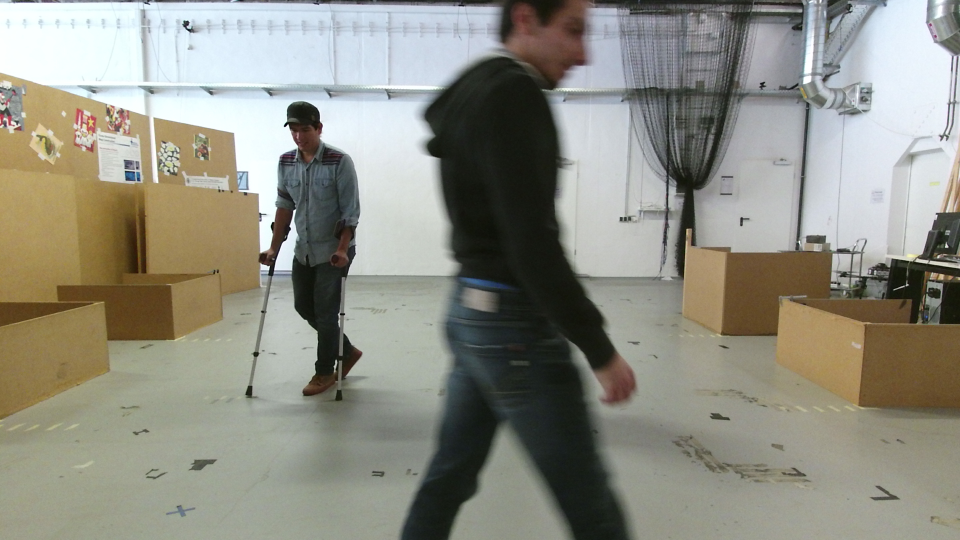crutches: (227, 89, 377, 403)
